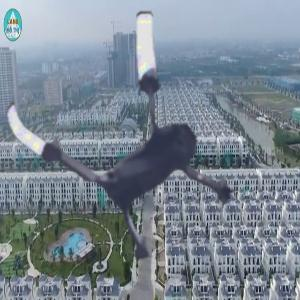drone: (1, 2, 281, 282)
